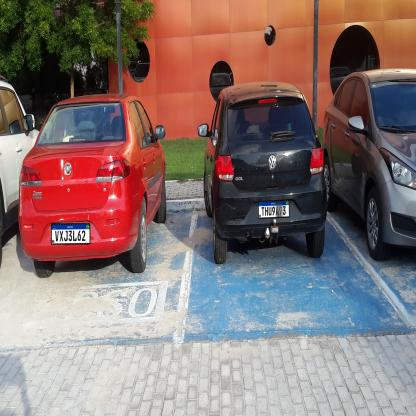PlacaM: (51, 223, 90, 245), (258, 200, 290, 219)
